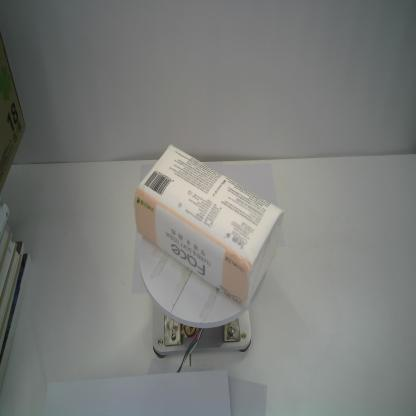Tissue: (134, 143, 284, 309)
